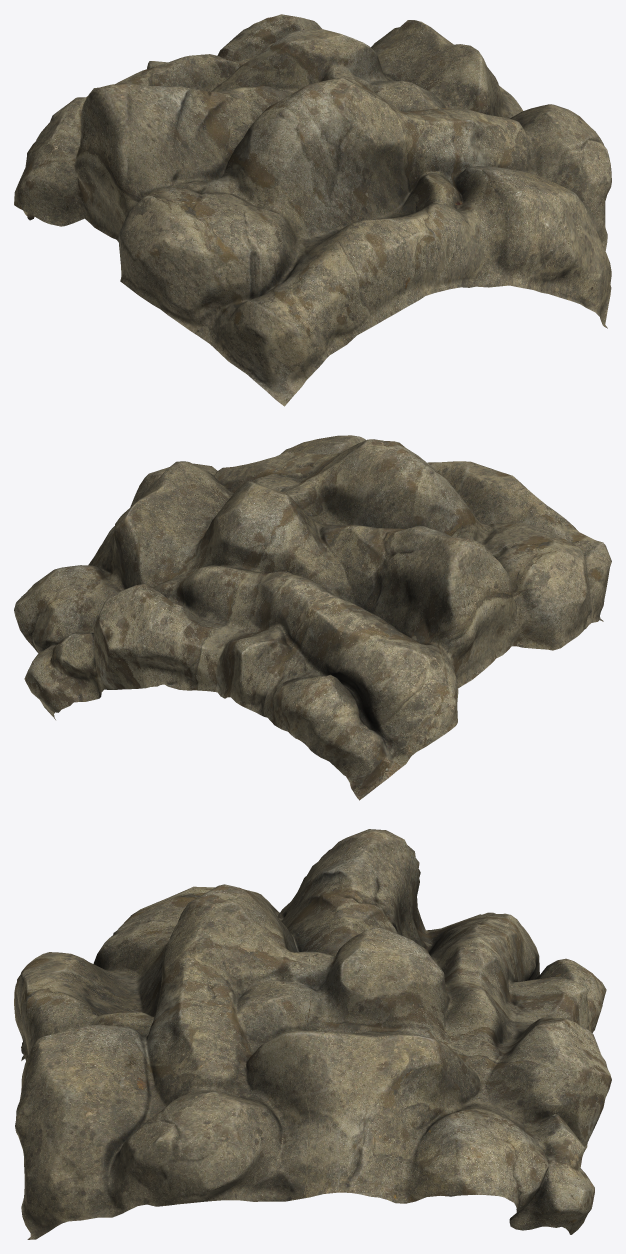
Rendered from cave_saltmine_jagged_wall_domed_02.dae.
The picture shows the model from 3 angles, top to bottom: view 1: azimuth 30°, elevation 25°; view 2: azimuth 150°, elevation 25°; view 3: azimuth 270°, elevation 25°; orthographic projection. The views are drawn at different scales.
Visible parts, largest first — view 1: wall_2_domed; view 2: wall_2_domed; view 3: wall_2_domed.
Part boxes in pixels (<box>): wall_2_domed: <box>14,14,611,406</box>; wall_2_domed: <box>14,435,611,800</box>; wall_2_domed: <box>14,829,611,1239</box>.
Size of the model in its own units: 3.81 by 1.73 by 3.82.
